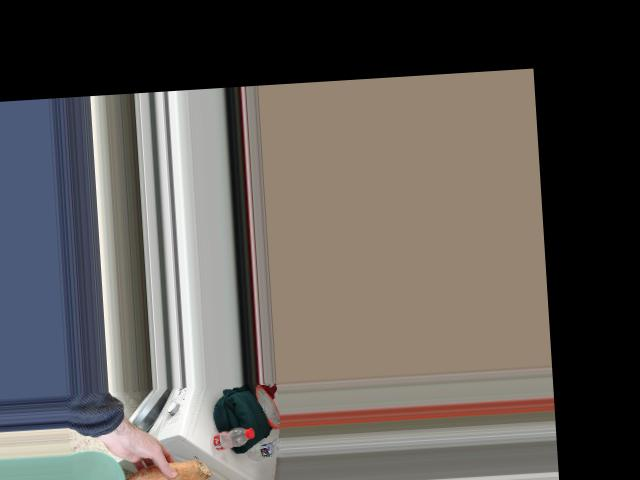sweet_potato: (113, 454, 202, 480)
